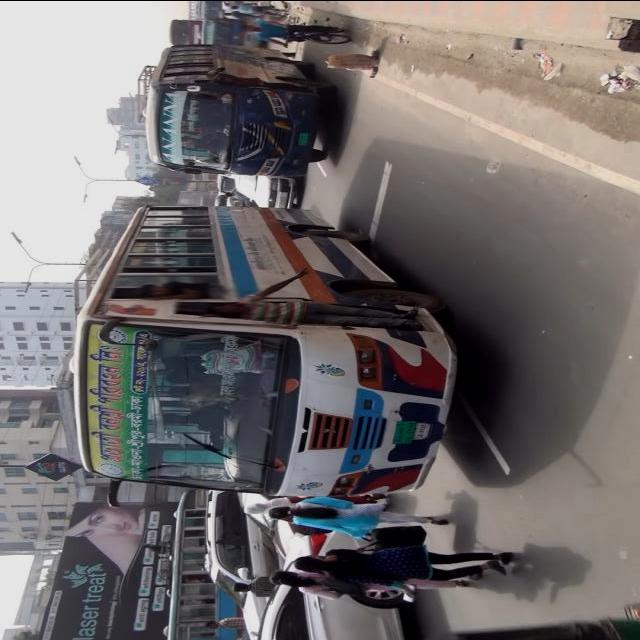bus: (70, 206, 463, 496), (141, 43, 337, 177)
